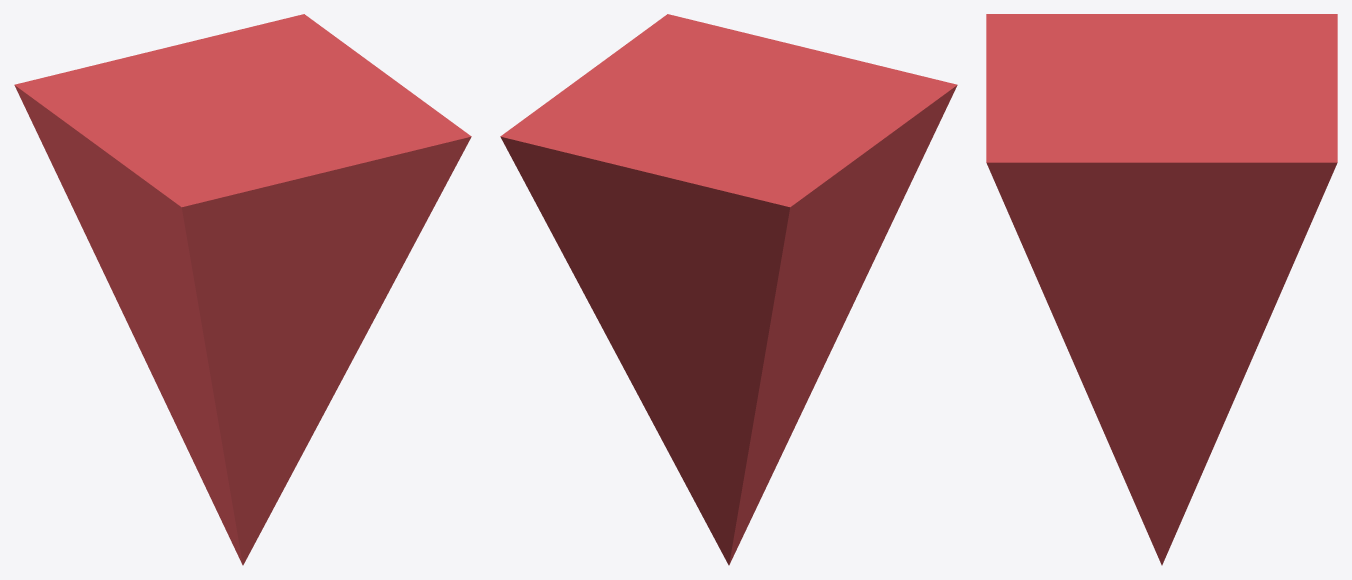
The model's file is RedMark.fbx.
3 renders of one model, left to right at view 1: azimuth 30°, elevation 25°; view 2: azimuth 150°, elevation 25°; view 3: azimuth 270°, elevation 25°, orthographic. The views are drawn at different scales.
Visible parts, largest first — view 1: red; view 2: red; view 3: red.
Part boxes in pixels (x1,y1,x2,y2): red: (14, 14, 471, 565); red: (500, 14, 957, 565); red: (986, 14, 1337, 565).
Bounding box in the file's own units: 200 × 300 × 200.
